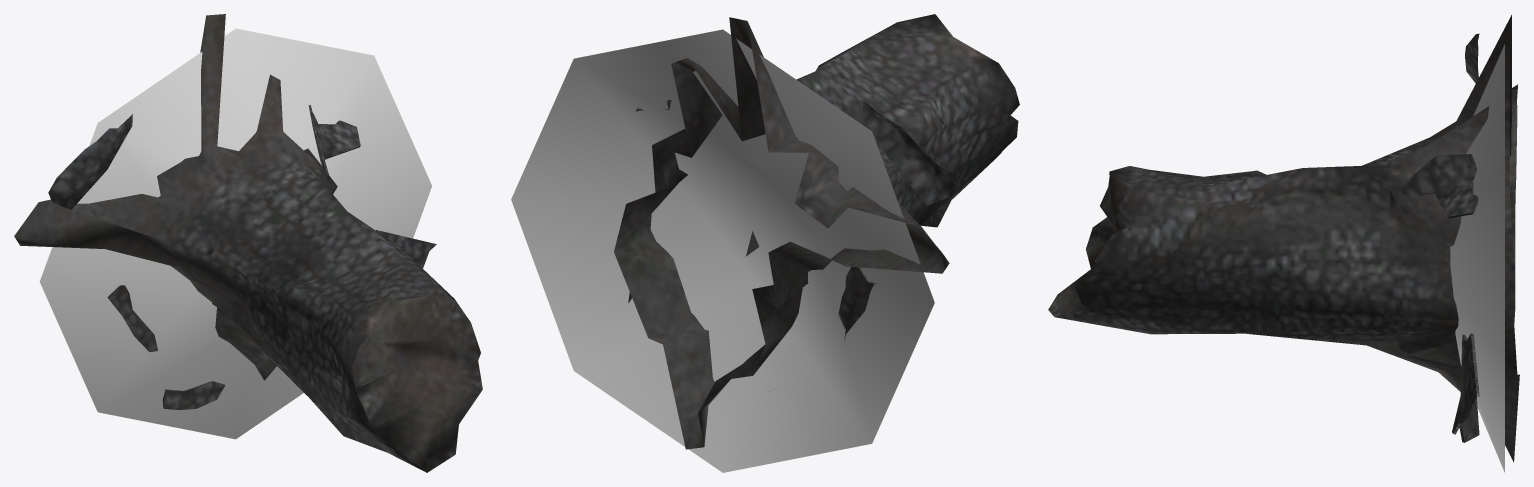
The model's file is hd_env_UNI_007_SnagHeap_07.fbx.
3 views of the same model, side by side, from view 1: azimuth 30°, elevation 25°; view 2: azimuth 150°, elevation 25°; view 3: azimuth 270°, elevation 25° (orthographic). The views are drawn at different scales.
Parts seen in each view (by area): view 1: set_0_group_0, set_0_group_2, set_0_group_1; view 2: set_0_group_0, set_0_group_1, set_0_group_2; view 3: set_0_group_2, set_0_group_1, set_0_group_0.
Part boxes in pixels (x1,y1,x2,y2): set_0_group_0: (39, 28, 431, 439); set_0_group_2: (184, 164, 482, 472); set_0_group_1: (14, 14, 436, 409); set_0_group_0: (511, 29, 934, 472); set_0_group_1: (614, 17, 954, 449); set_0_group_2: (615, 14, 1019, 337); set_0_group_2: (1048, 147, 1517, 379); set_0_group_1: (1366, 15, 1519, 462); set_0_group_0: (1450, 44, 1504, 472).
Size of the model in its own units: 164 by 162 by 158.
3 materials, 2 textured.
